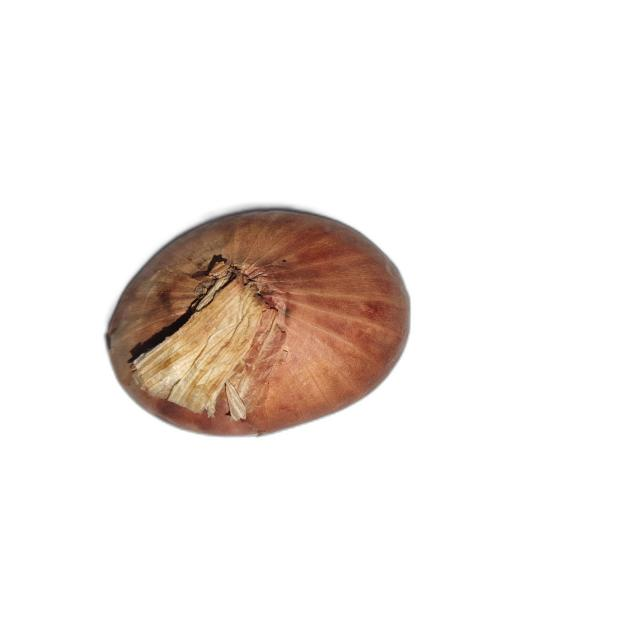onion: (107, 210, 410, 437)
